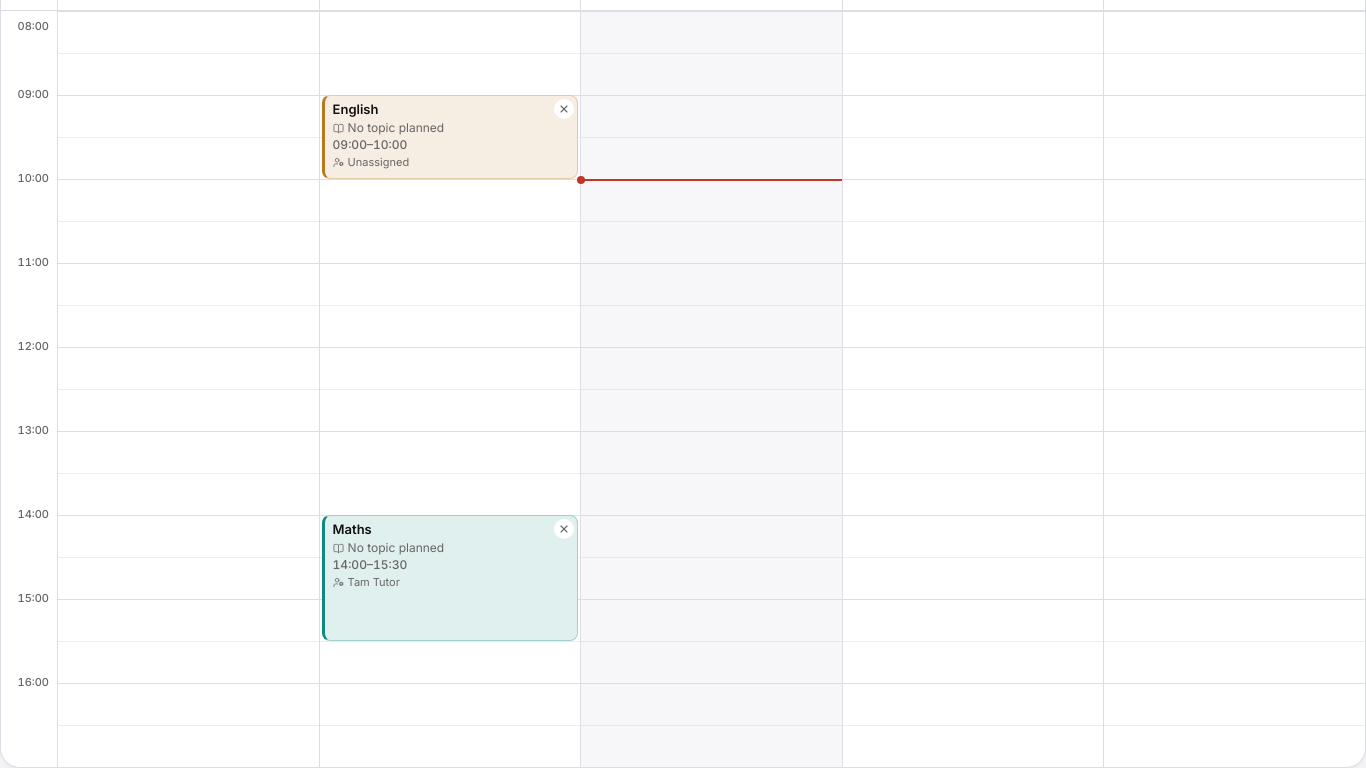
TimetablePage adding sessions › clicking an empty time in a column opens the dialog at that day and time
This screenshot has width=1366, height=768.
(page scrolled)
Expected: the text "Maths" is shown, top-left (333, 521), bottom-right (372, 537)
Click the element with test id "tt-day-3". click: (973,389)
box: top-left (842, 11), bottom-right (1103, 767)
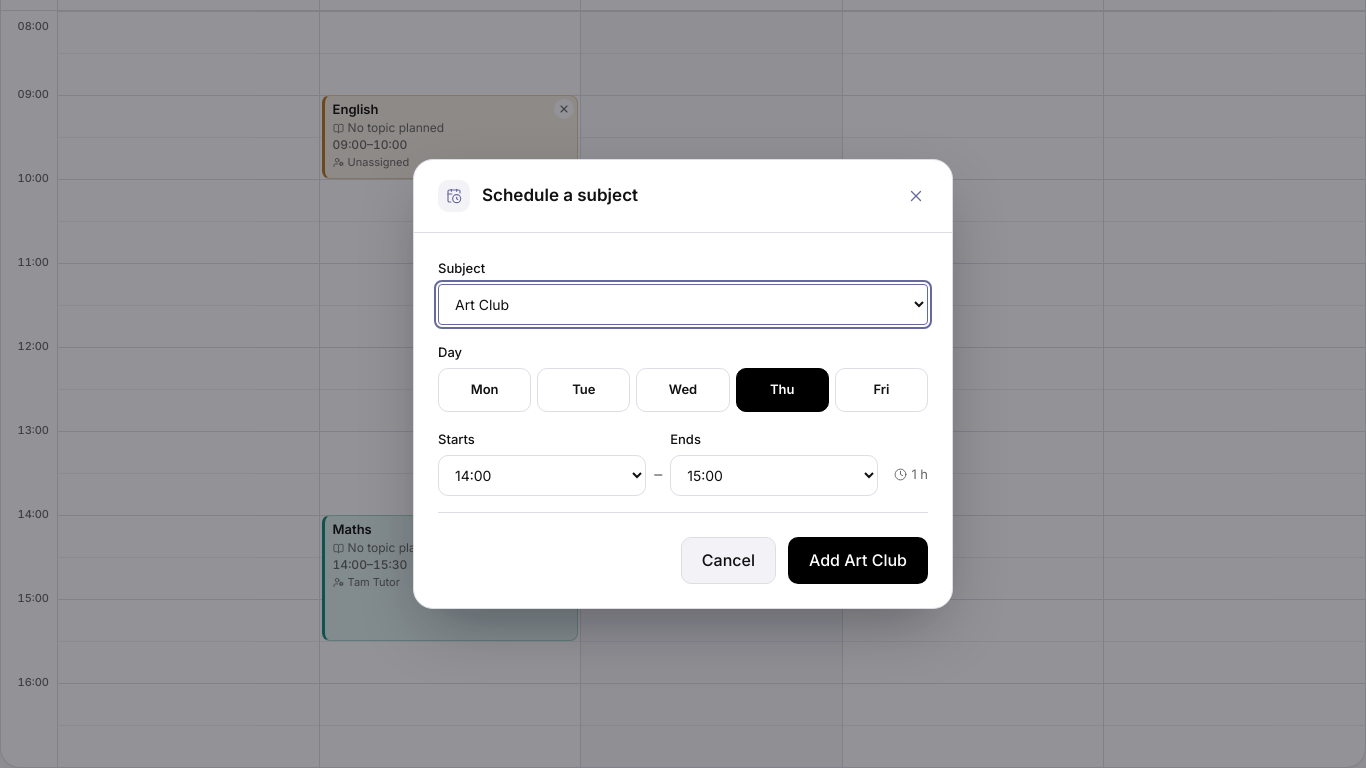
Expected: the radio button named "Thursday" is checked, top-left (736, 368), bottom-right (829, 412)
Expected: the dropdown labelled "Starts" shows "14:00", top-left (438, 455), bottom-right (646, 496)
Expected: the dropdown labelled "Ends" shows "15:00", top-left (670, 455), bottom-right (878, 496)
